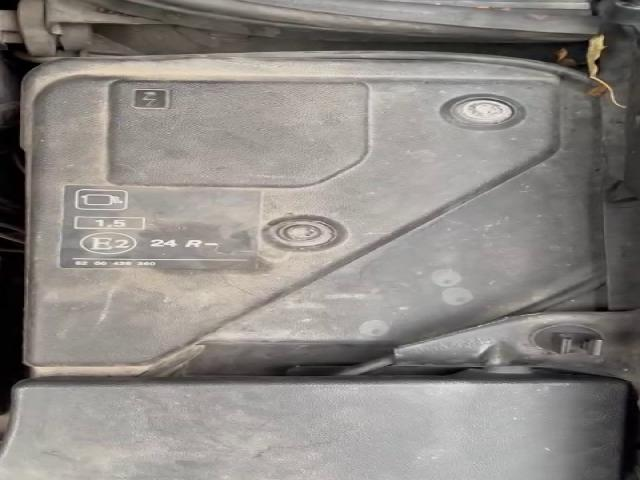accumulator: (20, 58, 608, 371)
